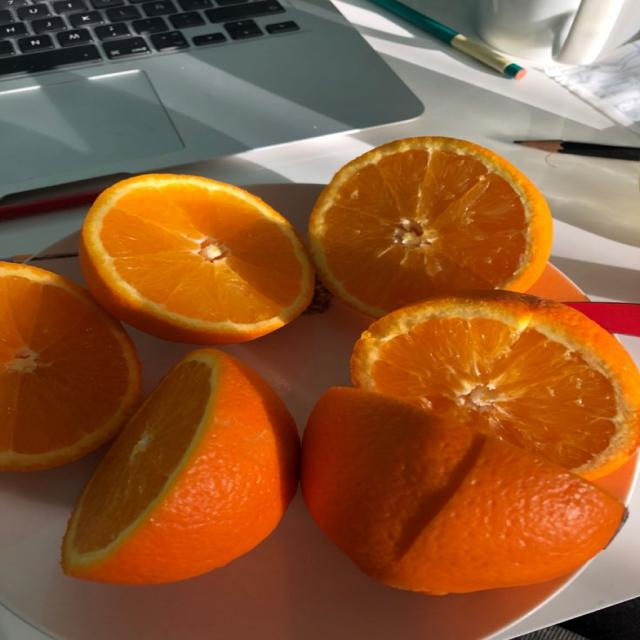orange: (301, 388, 625, 594), (62, 349, 299, 583), (352, 291, 639, 478), (308, 138, 552, 317), (80, 175, 313, 344), (0, 263, 140, 470)
